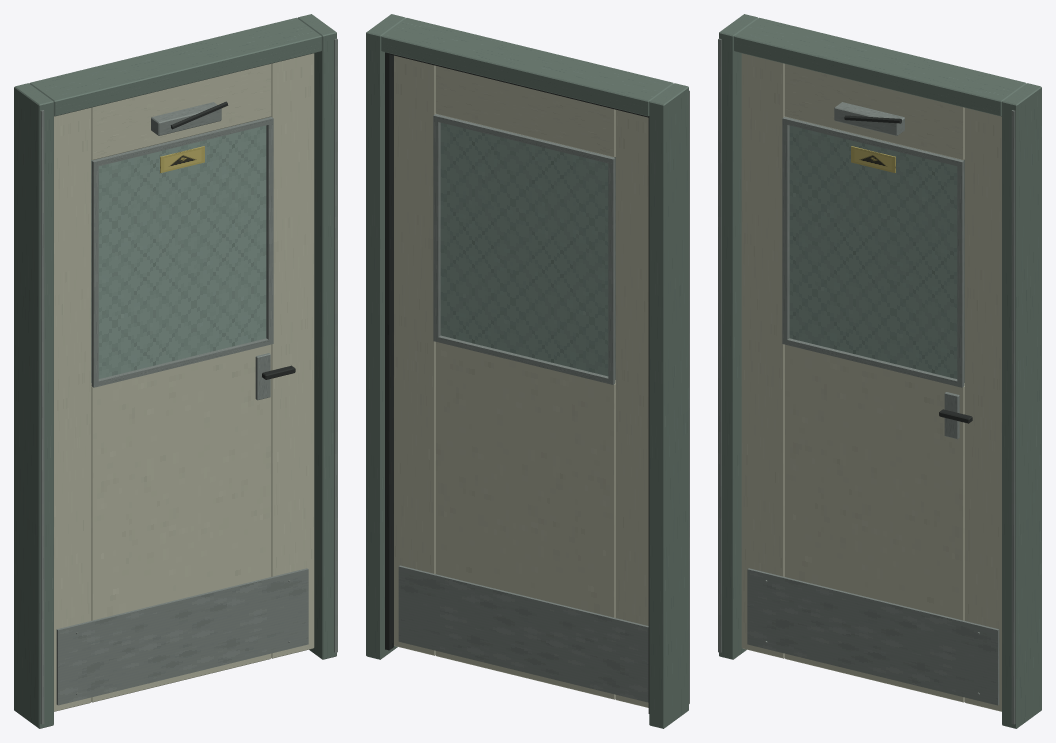
File: utility_door.glb
3 views of the same model, side by side, from view 1: azimuth 30°, elevation 25°; view 2: azimuth 150°, elevation 25°; view 3: azimuth 330°, elevation 25° (orthographic).
Visible parts, largest first — view 1: utility_door; view 2: utility_door; view 3: utility_door.
Part boxes in pixels (x1=…): utility_door: x1=14, y1=14, x2=337, y2=728; utility_door: x1=366, y1=14, x2=689, y2=728; utility_door: x1=718, y1=14, x2=1041, y2=728.
Bounding box in the file's own units: 1.08 × 2.16 × 0.1839.
6 materials, 6 textured.
